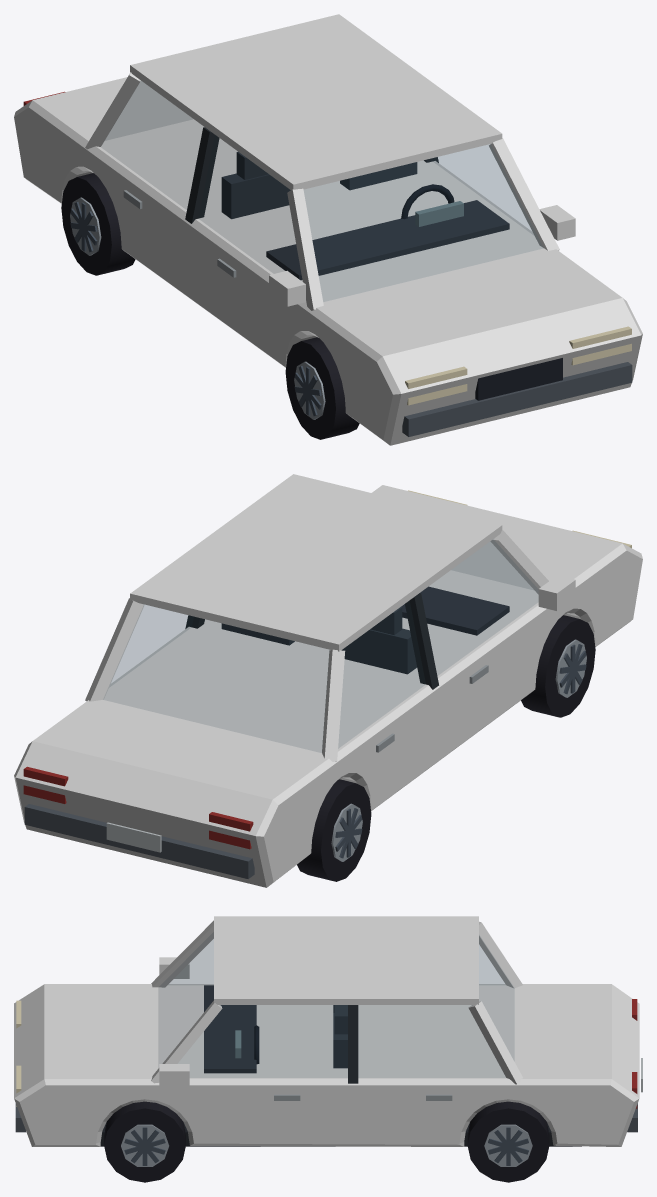
The picture shows the model from 3 angles, top to bottom: view 1: azimuth 30°, elevation 25°; view 2: azimuth 150°, elevation 25°; view 3: azimuth 270°, elevation 25°; orthographic projection. The views are drawn at different scales.
Visible parts, largest first — view 1: body, windows, wheel-mesh (×2); view 2: body, windows, wheel-mesh (×2); view 3: body, windows, wheel-mesh (×2).
Boxes of the visible parts, <box> form: body: <box>14,14,642,445</box>; windows: <box>101,81,542,301</box>; wheel-mesh (×2): <box>61,173,359,439</box>; body: <box>14,474,642,887</box>; windows: <box>104,540,537,752</box>; wheel-mesh (×2): <box>297,615,595,881</box>; body: <box>14,916,642,1146</box>; windows: <box>159,933,513,1077</box>; wheel-mesh (×2): <box>104,1101,549,1182</box>.
Size of the model in its own units: 2.04 by 1.45 by 4.76.
